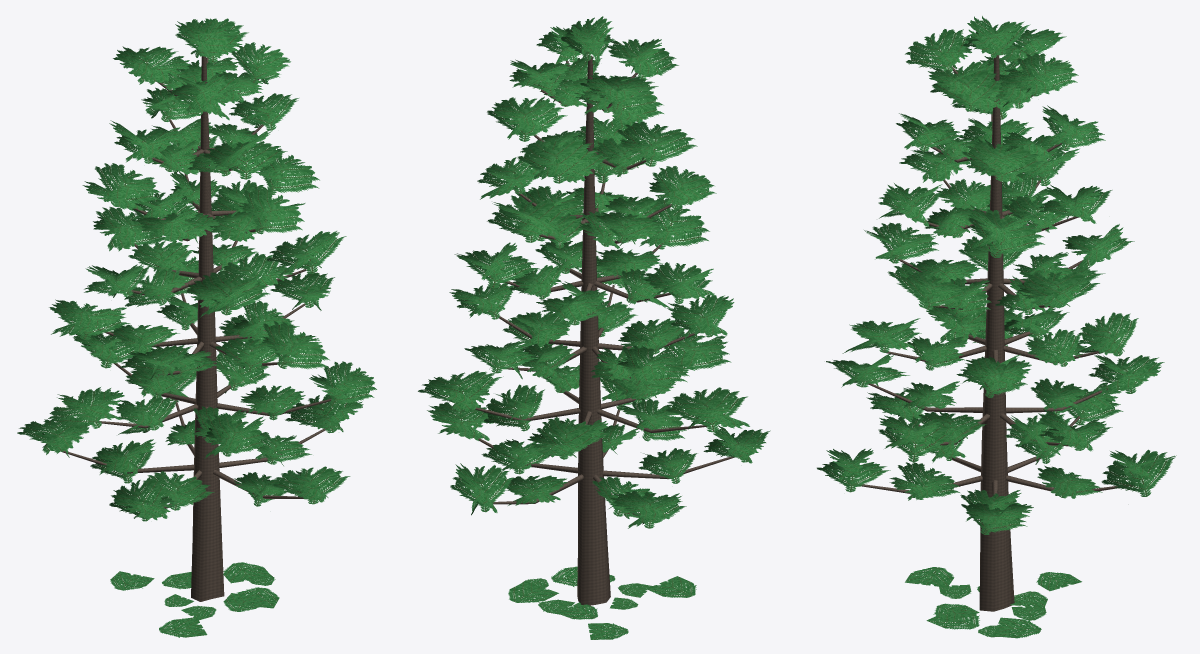
File: cypress_villa_park_dalat.glb
The picture shows the model from 3 angles, left to right: view 1: azimuth 30°, elevation 25°; view 2: azimuth 150°, elevation 25°; view 3: azimuth 270°, elevation 25°; orthographic projection. The views are drawn at different scales.
Visible parts, largest first — view 1: cypress_villa_park_dalat; view 2: cypress_villa_park_dalat; view 3: cypress_villa_park_dalat.
Boxes of the visible parts, x1,y1,x2,y2 form: cypress_villa_park_dalat: (17, 18, 376, 637); cypress_villa_park_dalat: (418, 16, 770, 639); cypress_villa_park_dalat: (817, 16, 1176, 638).
Bounding box in the file's own units: 7.44 × 12.77 × 7.39.
Materials: 2 (2 with a texture image).
